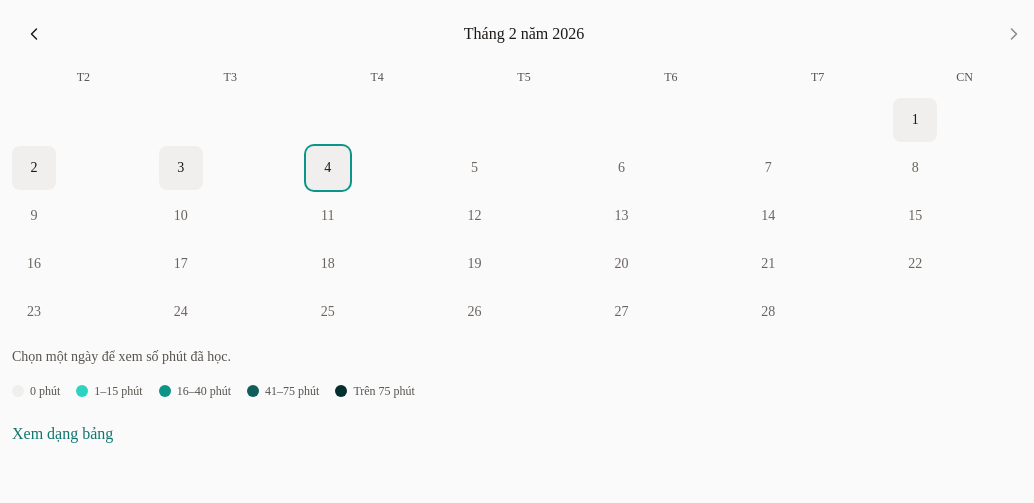
Test: CalendarHeatmap — legend and table › renders with no activity at all (M1 #22: the catalog’s empty demo)
Expected: the button named "4 tháng 2, 2026" is shown, x1=306 y1=146 x2=350 y2=190
Click the button "Xem dạng bảng" at (63, 434), box x1=12 y1=412 x2=113 y2=456
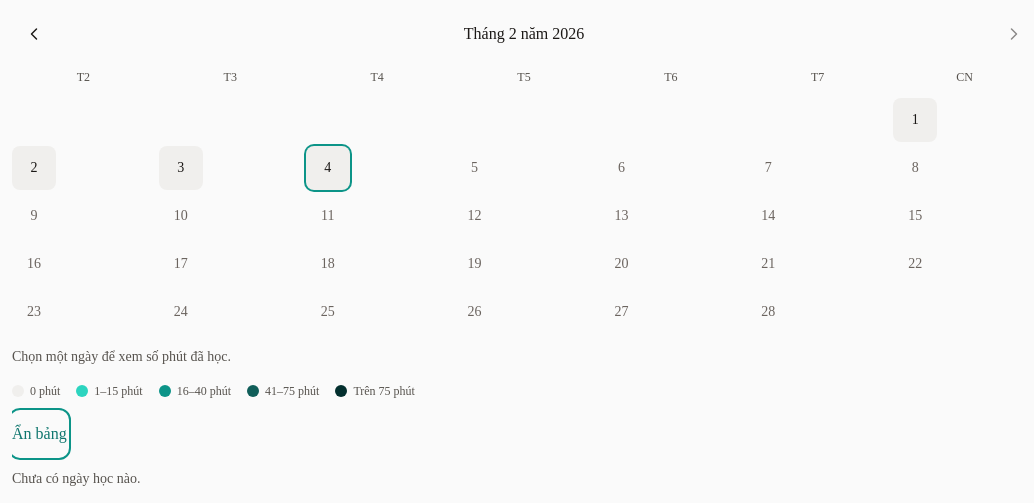
Expected: the text "Chưa có ngày học nào." is shown, x1=12 y1=471 x2=140 y2=486
